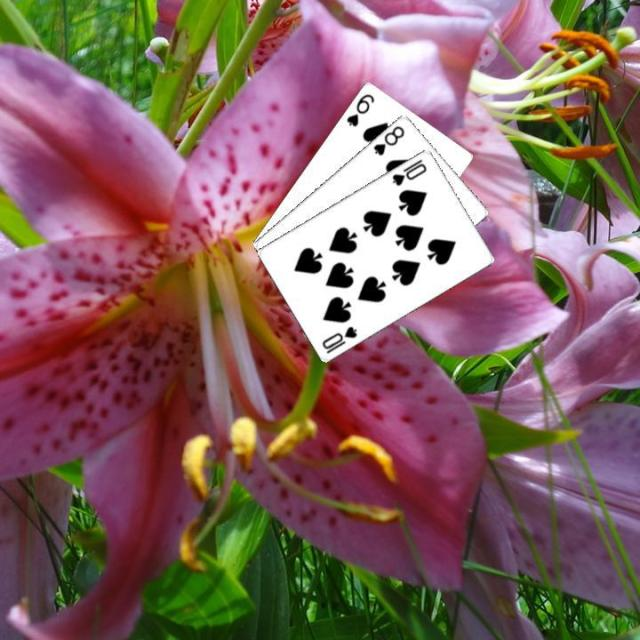10S: (388, 154, 428, 188), (318, 322, 359, 354)
6S: (342, 90, 376, 128)
8S: (369, 122, 406, 157)
